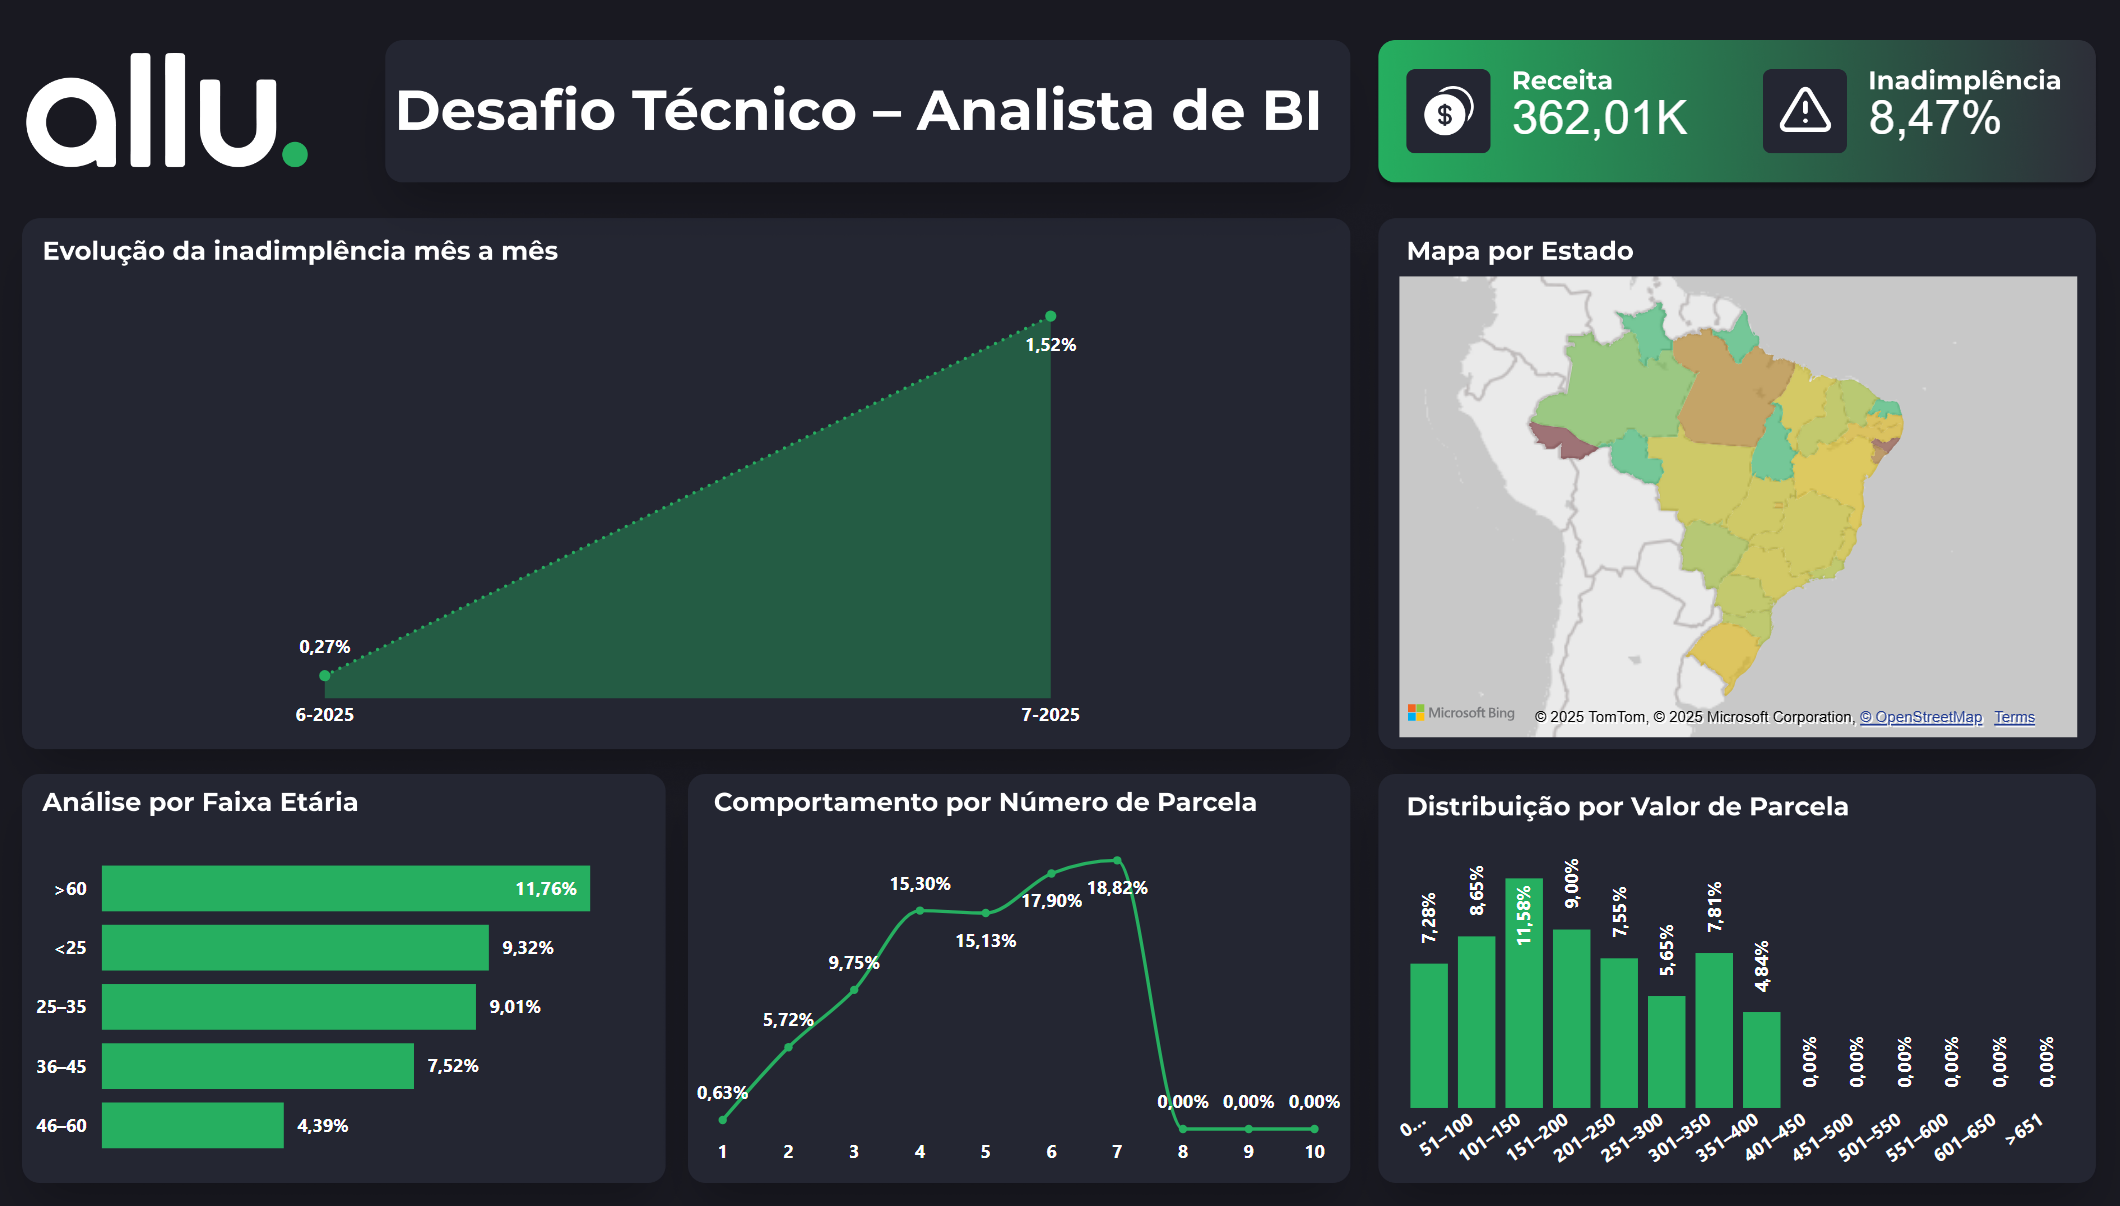

What the dashboard file says about the page in this screenshot:
{"tool":"powerbi","page":{"name":"Dash","canvas":[1280,720],"ordinal":0},"visuals":[{"type":"lineChart","fields":{"Category":["d_Calendario.Mês Ano"],"Y":["Medidas.Taxa_Failed_Chargedback"]},"box":[30.7,159.9,786.9,283.9],"z":0},{"type":"filledMap","fields":{"Category":["d_Estados.Estado"]},"box":[842.2,159.9,413.1,283.9],"z":1000},{"type":"barChart","fields":{"Category":["f_Base.faixa_etaria"],"Y":["Medidas.Taxa_Failed_Chargedback"]},"box":[30.7,488.4,380.5,215.2],"z":2000},{"type":"lineChart","fields":{"Category":["f_Base.parcela_recorrencia"],"Y":["Medidas.Taxa_Failed_Chargedback"]},"box":[424.4,488.4,393.1,215.2],"z":3000},{"type":"clusteredColumnChart","fields":{"Category":["f_Base.faixa_valor"],"Y":["Medidas.Taxa_Inadimplencia"]},"box":[837.6,488.4,422.4,215.2],"z":4000},{"type":"PBI_CV_7B952816_A48F_49B4_9E13_15E3BB2C0337","fields":{"Values":["Sum(f_Base.valor_parcela)"]},"box":[914.2,53.3,146.6,38],"z":5000},{"type":"PBI_CV_7B952816_A48F_49B4_9E13_15E3BB2C0337","fields":{"Values":["Medidas.Taxa_Failed_Chargedback"]},"box":[1126.7,53.3,127.9,38],"z":5001}]}

Visuals, with their boxes in screenshot pixels (x1, y1, x2, y2), scaled from the page's 1280x720 canvas onto the 2120x1206 screenshot:
lineChart - d_Calendario.Mês Ano x Medidas.Taxa_Failed_Chargedback: 51/268/1354/743
filledMap - d_Estados.Estado: 1395/268/2079/743
barChart - f_Base.faixa_etaria x Medidas.Taxa_Failed_Chargedback: 51/818/681/1179
lineChart - f_Base.parcela_recorrencia x Medidas.Taxa_Failed_Chargedback: 703/818/1354/1179
clusteredColumnChart - f_Base.faixa_valor x Medidas.Taxa_Inadimplencia: 1387/818/2087/1179
PBI_CV_7B952816_A48F_49B4_9E13_15E3BB2C0337 - Sum(f_Base.valor_parcela): 1514/89/1757/153
PBI_CV_7B952816_A48F_49B4_9E13_15E3BB2C0337 - Medidas.Taxa_Failed_Chargedback: 1866/89/2078/153
